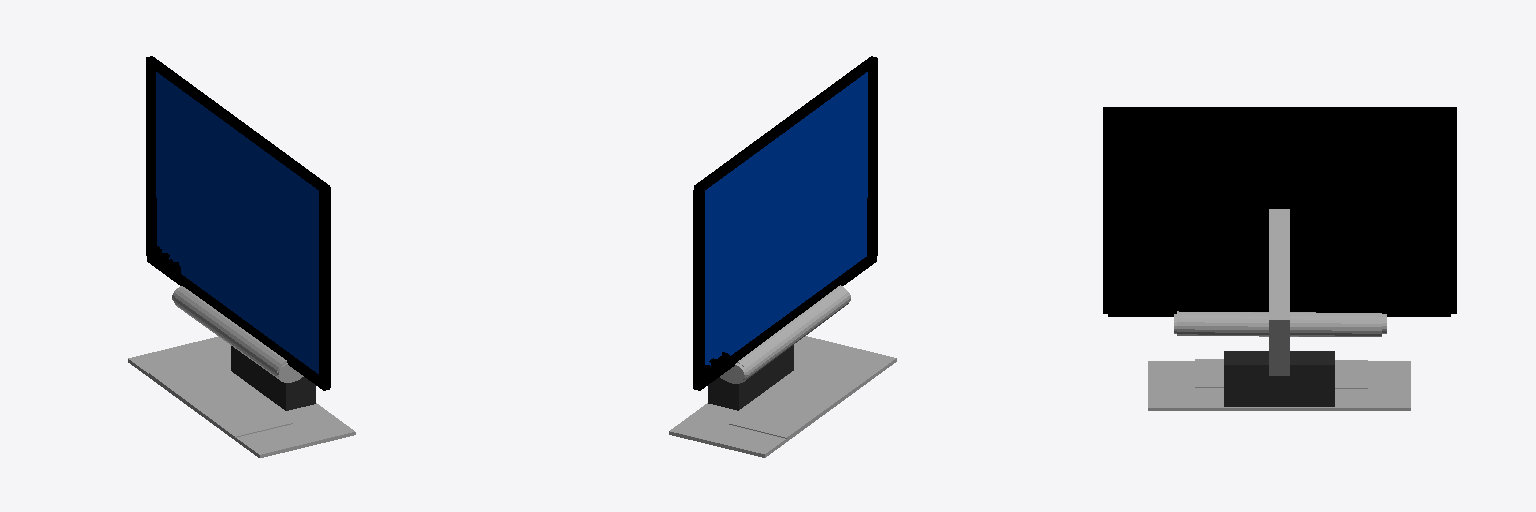
File: desktop-computer.obj
3 renders of one model, left to right at view 1: azimuth 30°, elevation 25°; view 2: azimuth 150°, elevation 25°; view 3: azimuth 270°, elevation 25°, orthographic.
Visible parts, largest first — view 1: Plane, Box7, Box9, Cylinder, Box4, Box1, Box10, Box3, Box2; view 2: Plane, Box7, Box9, Cylinder, Box3, Box1, Box10, Box4, Box2; view 3: Box5, Box7, Box10, Cylinder, Box1, Box6, Box9, Box8, Box3, Box4.
Part boxes in pixels (bbox=[...]): Plane: bbox=[156, 72, 318, 373]; Box7: bbox=[128, 336, 355, 457]; Box9: bbox=[149, 359, 292, 437]; Cylinder: bbox=[174, 287, 303, 382]; Box4: bbox=[319, 189, 330, 384]; Box1: bbox=[146, 56, 329, 191]; Box10: bbox=[231, 346, 315, 410]; Box3: bbox=[146, 63, 156, 257]; Box2: bbox=[147, 257, 329, 390]; Plane: bbox=[705, 72, 867, 365]; Box7: bbox=[669, 336, 896, 457]; Box9: bbox=[729, 361, 873, 438]; Cylinder: bbox=[729, 285, 850, 383]; Box3: bbox=[693, 189, 704, 384]; Box1: bbox=[694, 56, 877, 191]; Box10: bbox=[708, 345, 793, 410]; Box4: bbox=[867, 63, 877, 257]; Box2: bbox=[693, 256, 876, 390]; Box5: bbox=[1108, 115, 1450, 316]; Box7: bbox=[1148, 361, 1410, 410]; Box10: bbox=[1224, 351, 1334, 406]; Cylinder: bbox=[1177, 311, 1381, 336]; Box1: bbox=[1103, 107, 1456, 114]; Box6: bbox=[1269, 209, 1289, 319]; Box9: bbox=[1195, 359, 1367, 388]; Box8: bbox=[1269, 320, 1289, 375]; Box3: bbox=[1450, 114, 1456, 308]; Box4: bbox=[1103, 114, 1109, 308].
Size of the model in its own units: 1.32 by 2.77 by 3.2.